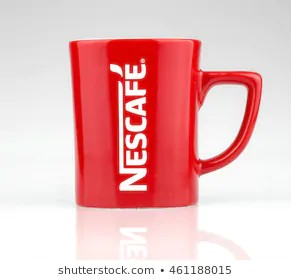nescafe-mug: (65, 37, 267, 210)
